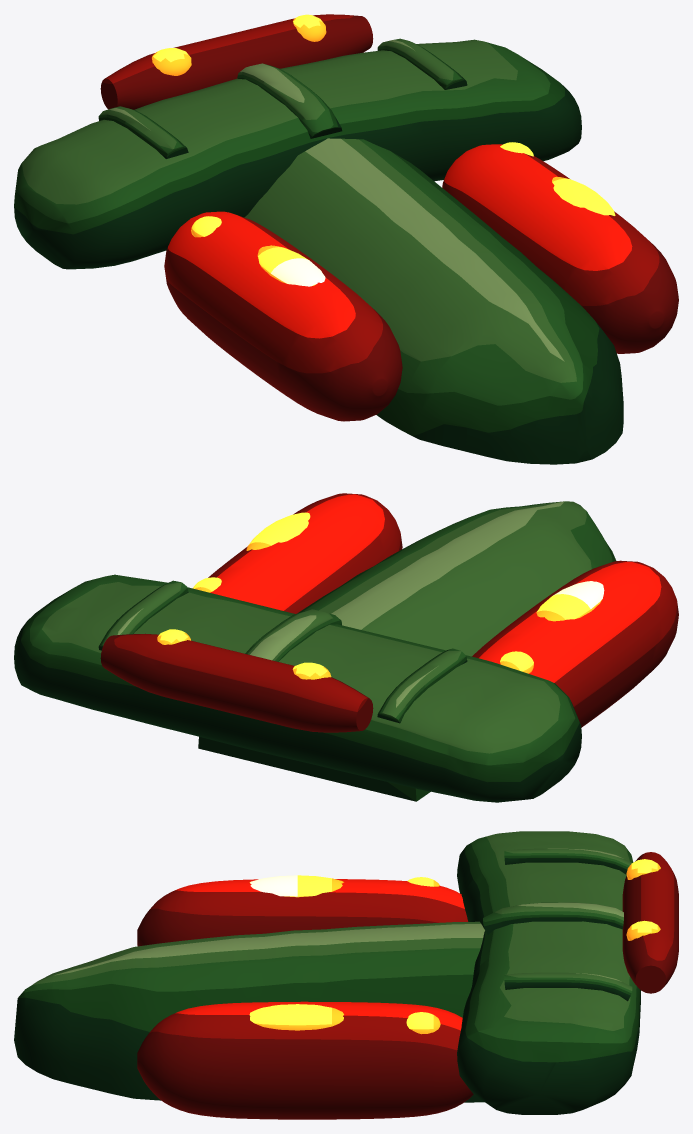
The model's file is green_pod_ship.glb.
The picture shows the model from 3 angles, top to bottom: view 1: azimuth 30°, elevation 25°; view 2: azimuth 150°, elevation 25°; view 3: azimuth 270°, elevation 25°; orthographic projection. The views are drawn at different scales.
Visible parts, largest first — view 1: green_pod_ship; view 2: green_pod_ship; view 3: green_pod_ship.
Part boxes in pixels (box(x1,y1,x2,y2)): green_pod_ship: box(14, 14, 678, 464); green_pod_ship: box(14, 493, 678, 802); green_pod_ship: box(14, 831, 678, 1119).
Bounding box in the file's own units: 22.8 × 7.25 × 27.2.
